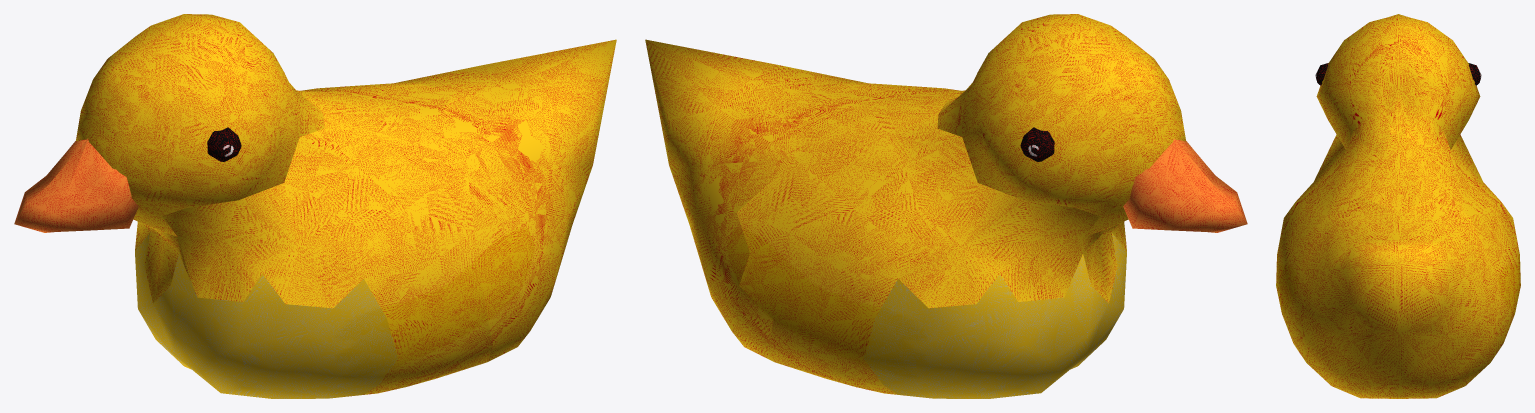
The model's file is PatoSeparado.dae.
3 views of the same model, side by side, from view 1: azimuth 30°, elevation 25°; view 2: azimuth 150°, elevation 25°; view 3: azimuth 270°, elevation 25° (orthographic). The views are drawn at different scales.
Parts seen in each view (by area): view 1: group_3, group_2 (×3), group_0, group_1; view 2: group_3, group_2 (×3), group_0, group_1; view 3: group_0, group_2, group_3.
Boxes of the visible parts, x1=… form: group_3: x1=135, y1=84, x2=492, y2=397; group_2 (×3): x1=14, y1=14, x2=324, y2=236; group_0: x1=380, y1=39, x2=616, y2=361; group_1: x1=135, y1=233, x2=397, y2=398; group_3: x1=737, y1=84, x2=1126, y2=397; group_2 (×3): x1=937, y1=14, x2=1247, y2=236; group_0: x1=645, y1=39, x2=881, y2=361; group_1: x1=864, y1=233, x2=1126, y2=398; group_0: x1=1279, y1=196, x2=1514, y2=398; group_2: x1=1316, y1=14, x2=1480, y2=149; group_3: x1=1276, y1=130, x2=1520, y2=313.
Bounding box in the file's own units: 113 × 54.16 × 69.55.
